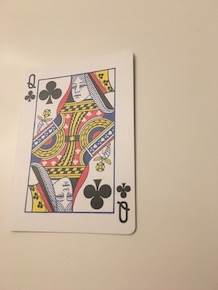QueenOfClubs: (6, 49, 140, 238)
